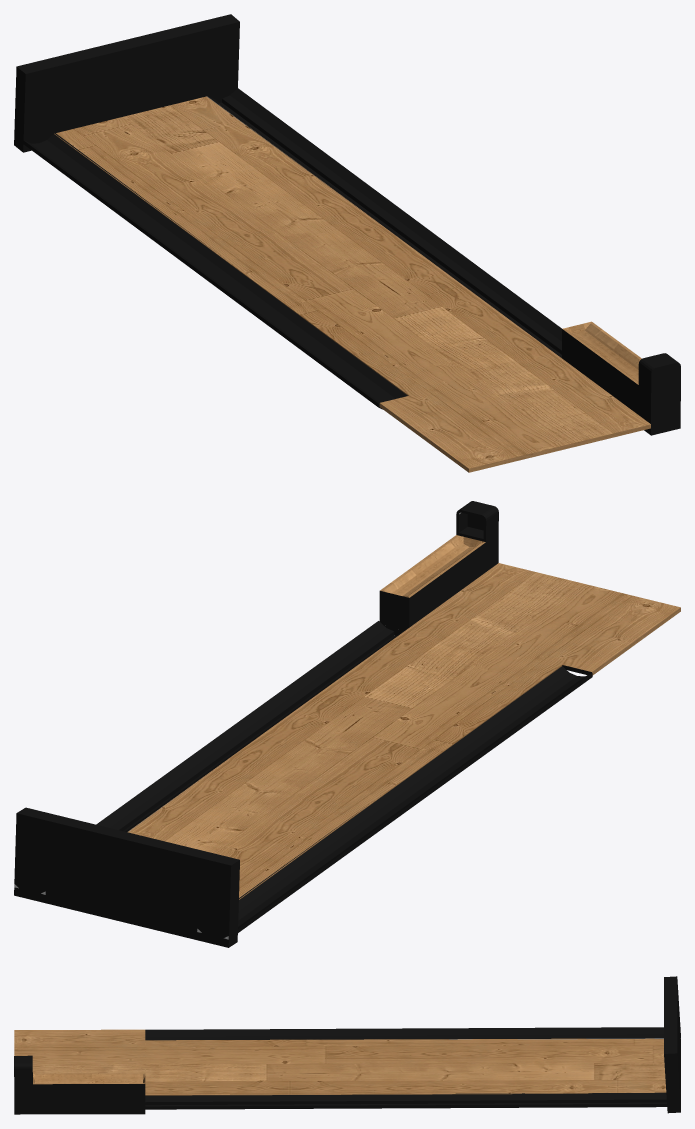
File: ballingBox.fbx
3 renders of one model, top to bottom at view 1: azimuth 30°, elevation 25°; view 2: azimuth 150°, elevation 25°; view 3: azimuth 270°, elevation 25°, orthographic. The views are drawn at different scales.
Parts seen in each view (by area): view 1: house.001; view 2: house.001; view 3: house.001.
Boxes of the visible parts, left/top/right/bottom form: house.001: left=14, top=14, right=680, bottom=472; house.001: left=14, top=501, right=680, bottom=947; house.001: left=14, top=976, right=680, bottom=1114.
Bounding box in the file's own units: 2.79 × 10.2 × 1.04.
Materials: 3 (1 with a texture image).
